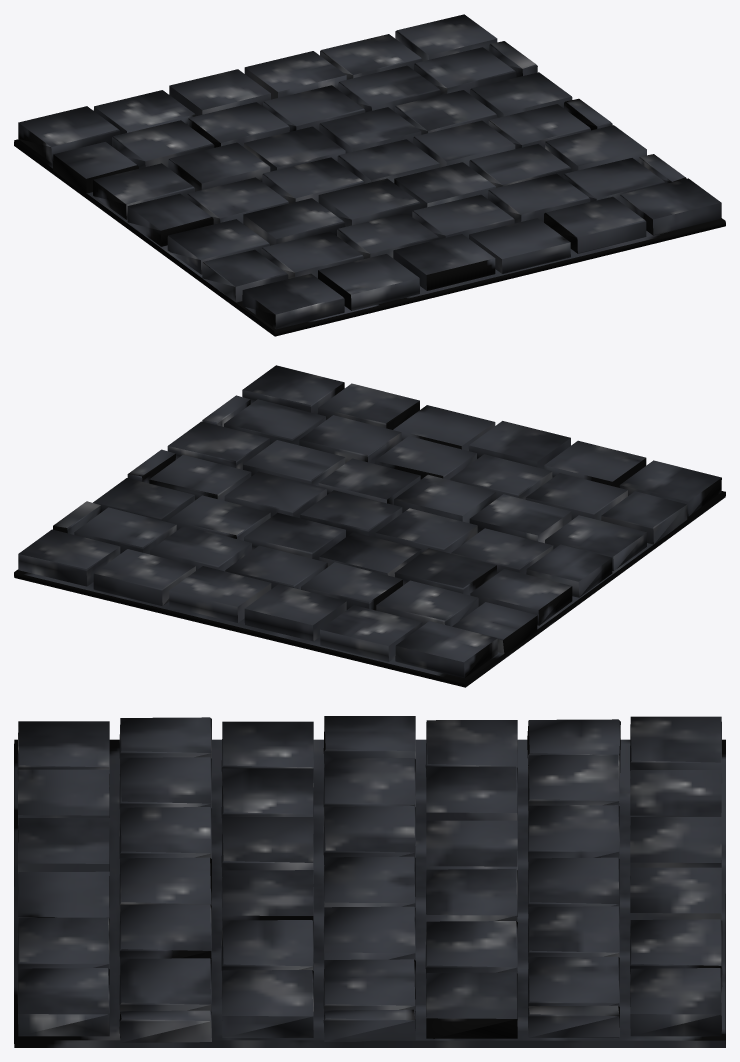
Rendered from Calle_Adoquin.fbx.
3 views of the same model, one above another, from view 1: azimuth 30°, elevation 25°; view 2: azimuth 150°, elevation 25°; view 3: azimuth 270°, elevation 25° (orthographic). The views are drawn at different scales.
Visible parts, largest first — view 1: Calle_Adoquin; view 2: Calle_Adoquin; view 3: Calle_Adoquin.
Boxes of the visible parts, left/top/right/bottom form: Calle_Adoquin: left=14, top=14, right=725, bottom=336; Calle_Adoquin: left=14, top=365, right=725, bottom=687; Calle_Adoquin: left=14, top=716, right=725, bottom=1047.
Bounding box in the file's own units: 7.98 × 0.4171 × 7.98.
